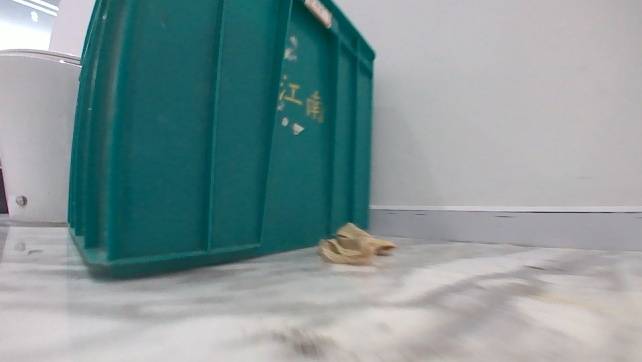socks: (315, 220, 397, 265)
toilet: (0, 44, 85, 227)
